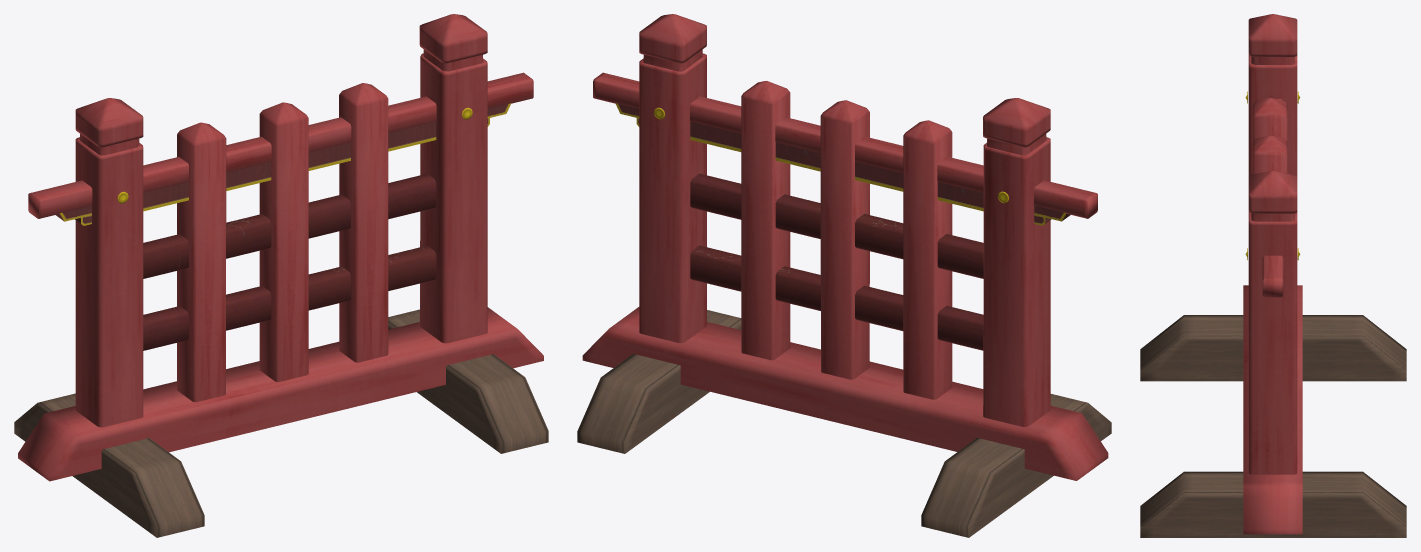
File: SM_ENV_LKNVLD_Fence_Small.FBX
3 renders of one model, left to right at view 1: azimuth 30°, elevation 25°; view 2: azimuth 150°, elevation 25°; view 3: azimuth 270°, elevation 25°, orthographic. The views are drawn at different scales.
Parts seen in each view (by area): view 1: SM_ENV_LKNVLD_Fence_Small; view 2: SM_ENV_LKNVLD_Fence_Small; view 3: SM_ENV_LKNVLD_Fence_Small.
Part boxes in pixels (box(x1,y1,x2,y2)): SM_ENV_LKNVLD_Fence_Small: box(14, 14, 548, 537); SM_ENV_LKNVLD_Fence_Small: box(577, 14, 1111, 537); SM_ENV_LKNVLD_Fence_Small: box(1140, 14, 1406, 537).
Size of the model in its own units: 270 by 199 by 135.
